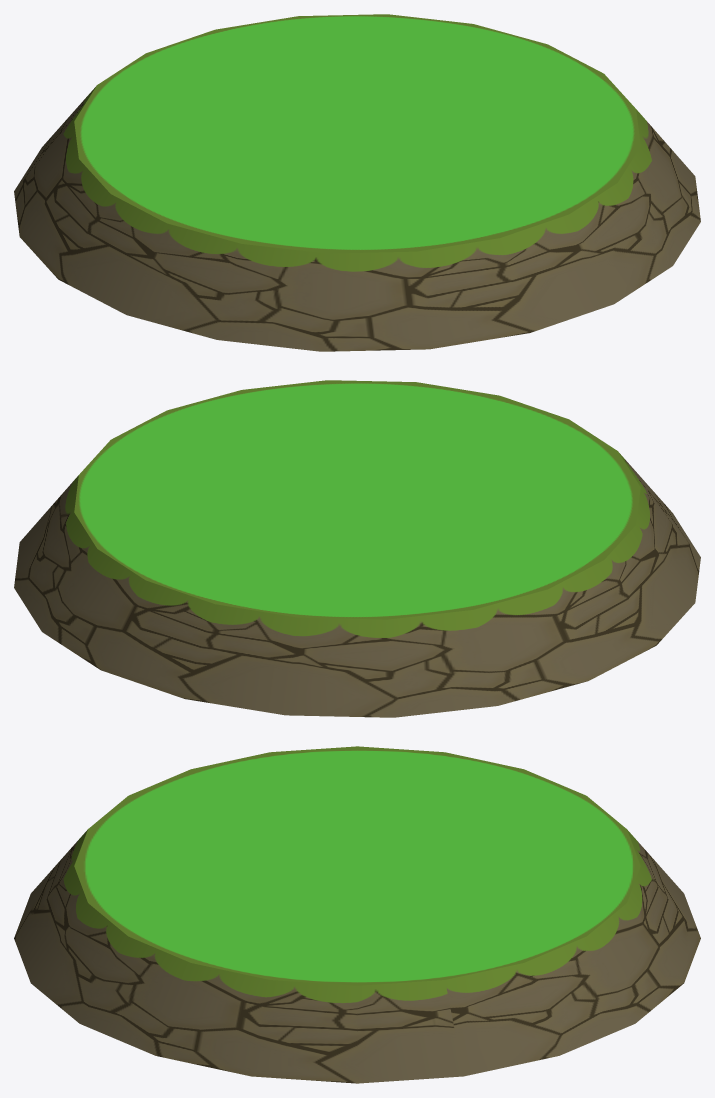
The model's file is Island.fbx.
3 views of the same model, one above another, from view 1: azimuth 30°, elevation 25°; view 2: azimuth 150°, elevation 25°; view 3: azimuth 270°, elevation 25° (orthographic).
Visible parts, largest first — view 1: pCylinder2; view 2: pCylinder2; view 3: pCylinder2.
Boxes of the visible parts, box(x1,y1,x2,y2) form: pCylinder2: box(14, 14, 700, 351); pCylinder2: box(14, 380, 700, 717); pCylinder2: box(14, 746, 700, 1083).
Size of the model in its own units: 6.34 by 0.7371 by 6.34.
